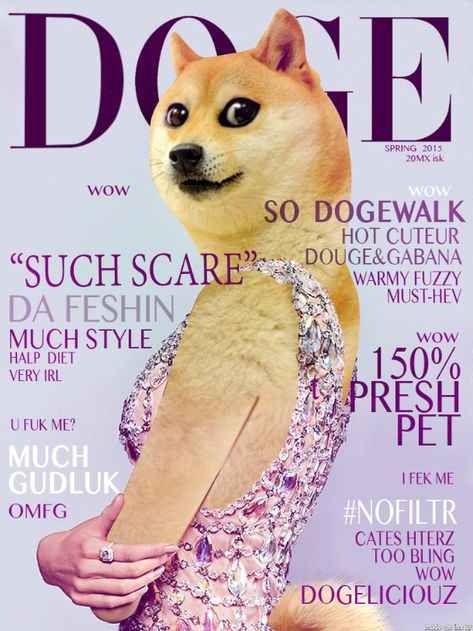doge: (144, 10, 360, 251)
